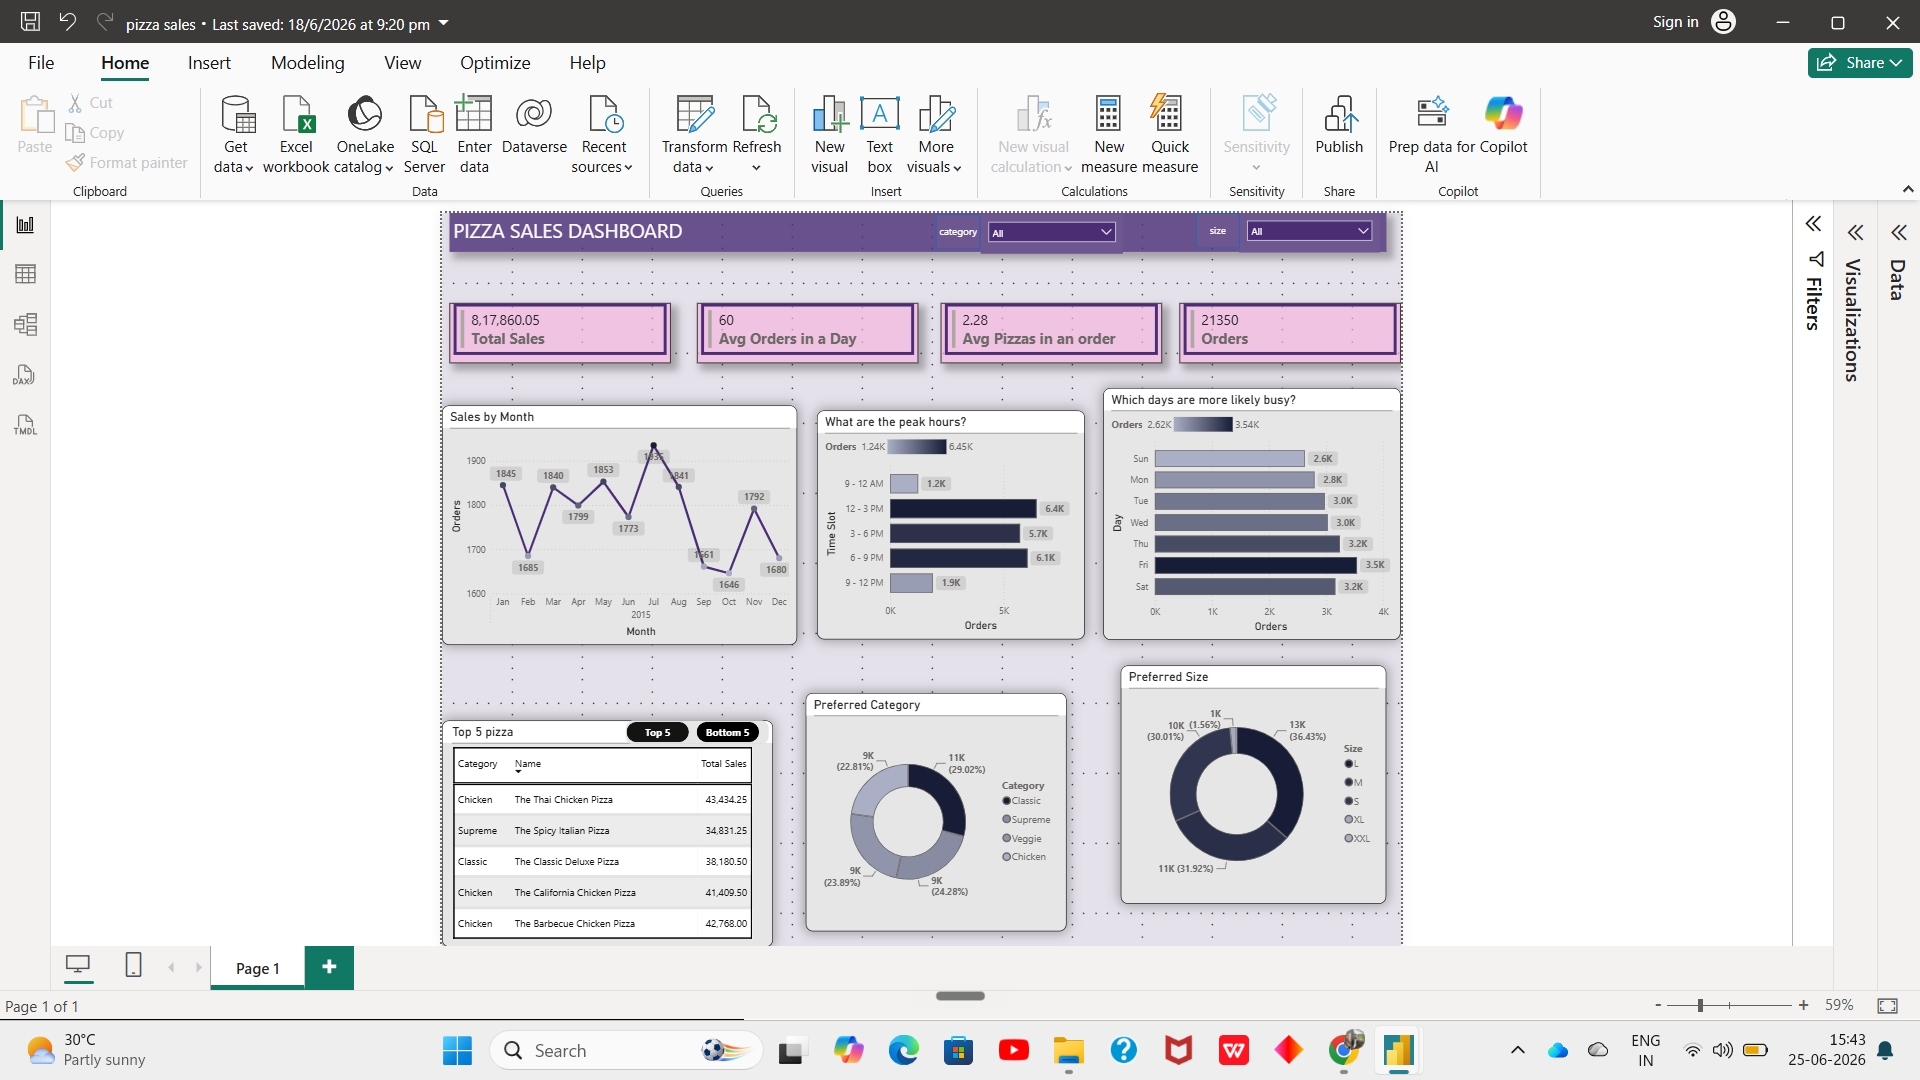

This screenshot's page, from the dashboard's own definition file:
{"tool":"powerbi","page":{"name":"Page 1","canvas":[1300,1000],"ordinal":0},"visuals":[{"type":"textbox","title":"PIZZA SALES DASHBOARD","box":[10,0,1270,52.5],"z":0},{"type":"slicer","fields":{"Values":["pizzas.Size"]},"box":[1082.2,0,190.4,53.2],"z":0,"group":"g1"},{"type":"slicer","fields":{"Values":["Pizza Types.Category"]},"box":[729.8,1.6,192.8,53.2],"z":0,"group":"g2"},{"type":"shape","box":[1022.6,0,59.6,46.8],"z":1000,"group":"g1"},{"type":"shape","box":[669.4,1.6,60.4,46.8],"z":1000,"group":"g2"},{"type":"clusteredBarChart","title":"What are the peak hours?","fields":{"Category":["Orders.Time Slot"],"Y":["All Measures.Orders"]},"box":[508.3,268.3,363.3,310],"z":1000},{"type":"clusteredBarChart","title":"Which days are more likely busy?","fields":{"Category":["Date Table.Day"],"Y":["All Measures.Orders"]},"box":[897.1,237.1,402.9,341.4],"z":2000},{"type":"lineChart","title":"Sales by Month","fields":{"Category":["Date Table.Year","Date Table.Month"],"Y":["All Measures.Orders"]},"box":[0,261.7,481.7,325],"z":3000},{"type":"donutChart","title":"Preferred Category","fields":{"Y":["All Measures.Orders"],"Category":["Pizza Types.Category"]},"box":[493.3,650,353.3,323.3],"z":4000},{"type":"donutChart","title":"Preferred Size","fields":{"Y":["All Measures.Orders"],"Category":["pizzas.Size"]},"box":[920,612.9,360,322.9],"z":5000},{"type":"tableEx","title":"Top 5 pizza","fields":{"Values":["Pizza Types.Category","Pizza Types.Name","All Measures.Total Sales"]},"box":[0,688.5,448.5,307],"z":6000},{"type":"bookmarkNavigator","box":[248.3,688.3,193.3,31.7],"z":8000},{"type":"multiRowCard","fields":{"Values":["All Measures.Total Sales"]},"box":[10,121.7,300,81.7],"z":9000},{"type":"multiRowCard","title":"average orders","fields":{"Values":["All Measures.Avg Orders in a Day"]},"box":[345,121.7,300,81.7],"z":10000},{"type":"multiRowCard","title":"average pizzas","fields":{"Values":["All Measures.Avg Pizzas in an order"]},"box":[676.7,121.7,300,81.7],"z":11000},{"type":"multiRowCard","fields":{"Values":["All Measures.Orders"]},"box":[1000,121.7,300,81.7],"z":12000},{"type":"group","id":"g1","title":"Category","box":[1022.6,0,250,53.2],"z":13000},{"type":"group","id":"g2","title":"Category","box":[669.4,1.6,253.2,53.2],"z":14000}]}

Visuals, with their boxes on the page's 1300x1000 design canvas (x1, y1, x2, y2). These are canvas units, not pixel positions in the 1920x1080 screenshot, which may show the page scaled, cropped or inside an application window:
"PIZZA SALES DASHBOARD" textbox: [x1=10, y1=0, x2=1280, y2=52]
slicer - pizzas.Size: [x1=1082, y1=0, x2=1273, y2=53]
slicer - Pizza Types.Category: [x1=730, y1=2, x2=923, y2=55]
shape: [x1=1023, y1=0, x2=1082, y2=47]
shape: [x1=669, y1=2, x2=730, y2=48]
"What are the peak hours?" clusteredBarChart: [x1=508, y1=268, x2=872, y2=578]
"Which days are more likely busy?" clusteredBarChart: [x1=897, y1=237, x2=1300, y2=578]
"Sales by Month" lineChart: [x1=0, y1=262, x2=482, y2=587]
"Preferred Category" donutChart: [x1=493, y1=650, x2=847, y2=973]
"Preferred Size" donutChart: [x1=920, y1=613, x2=1280, y2=936]
"Top 5 pizza" tableEx: [x1=0, y1=688, x2=448, y2=996]
bookmarkNavigator: [x1=248, y1=688, x2=442, y2=720]
multiRowCard - All Measures.Total Sales: [x1=10, y1=122, x2=310, y2=203]
"average orders" multiRowCard: [x1=345, y1=122, x2=645, y2=203]
"average pizzas" multiRowCard: [x1=677, y1=122, x2=977, y2=203]
multiRowCard - All Measures.Orders: [x1=1000, y1=122, x2=1300, y2=203]
"Category" group: [x1=1023, y1=0, x2=1273, y2=53]
"Category" group: [x1=669, y1=2, x2=923, y2=55]
